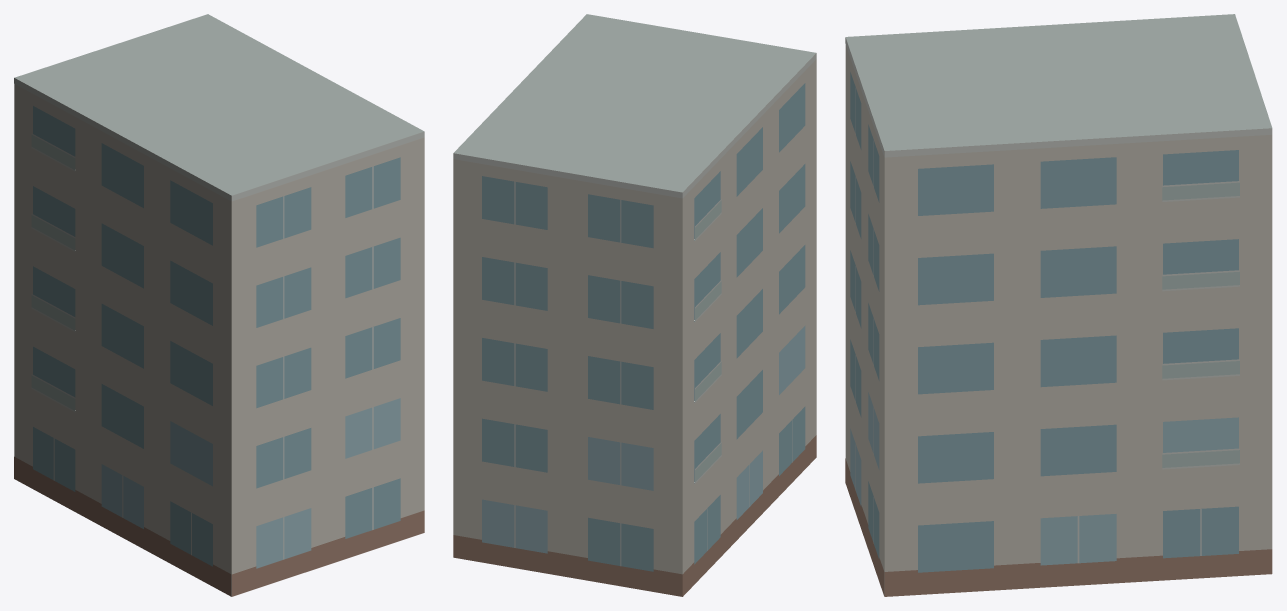
The model's file is survey-upis-32532071.glb.
3 views of the same model, side by side, from view 1: azimuth 30°, elevation 25°; view 2: azimuth 150°, elevation 25°; view 3: azimuth 270°, elevation 25° (orthographic). The views are drawn at different scales.
Parts seen in each view (by area): view 1: survey-upis-32532071.tmp; view 2: survey-upis-32532071.tmp; view 3: survey-upis-32532071.tmp.
Part boxes in pixels (x1,y1,x2,y2): survey-upis-32532071.tmp: (14,14,424,596); survey-upis-32532071.tmp: (453,14,816,596); survey-upis-32532071.tmp: (845,14,1272,596).
Bounding box in the file's own units: 10.99 × 16.65 × 14.46.
